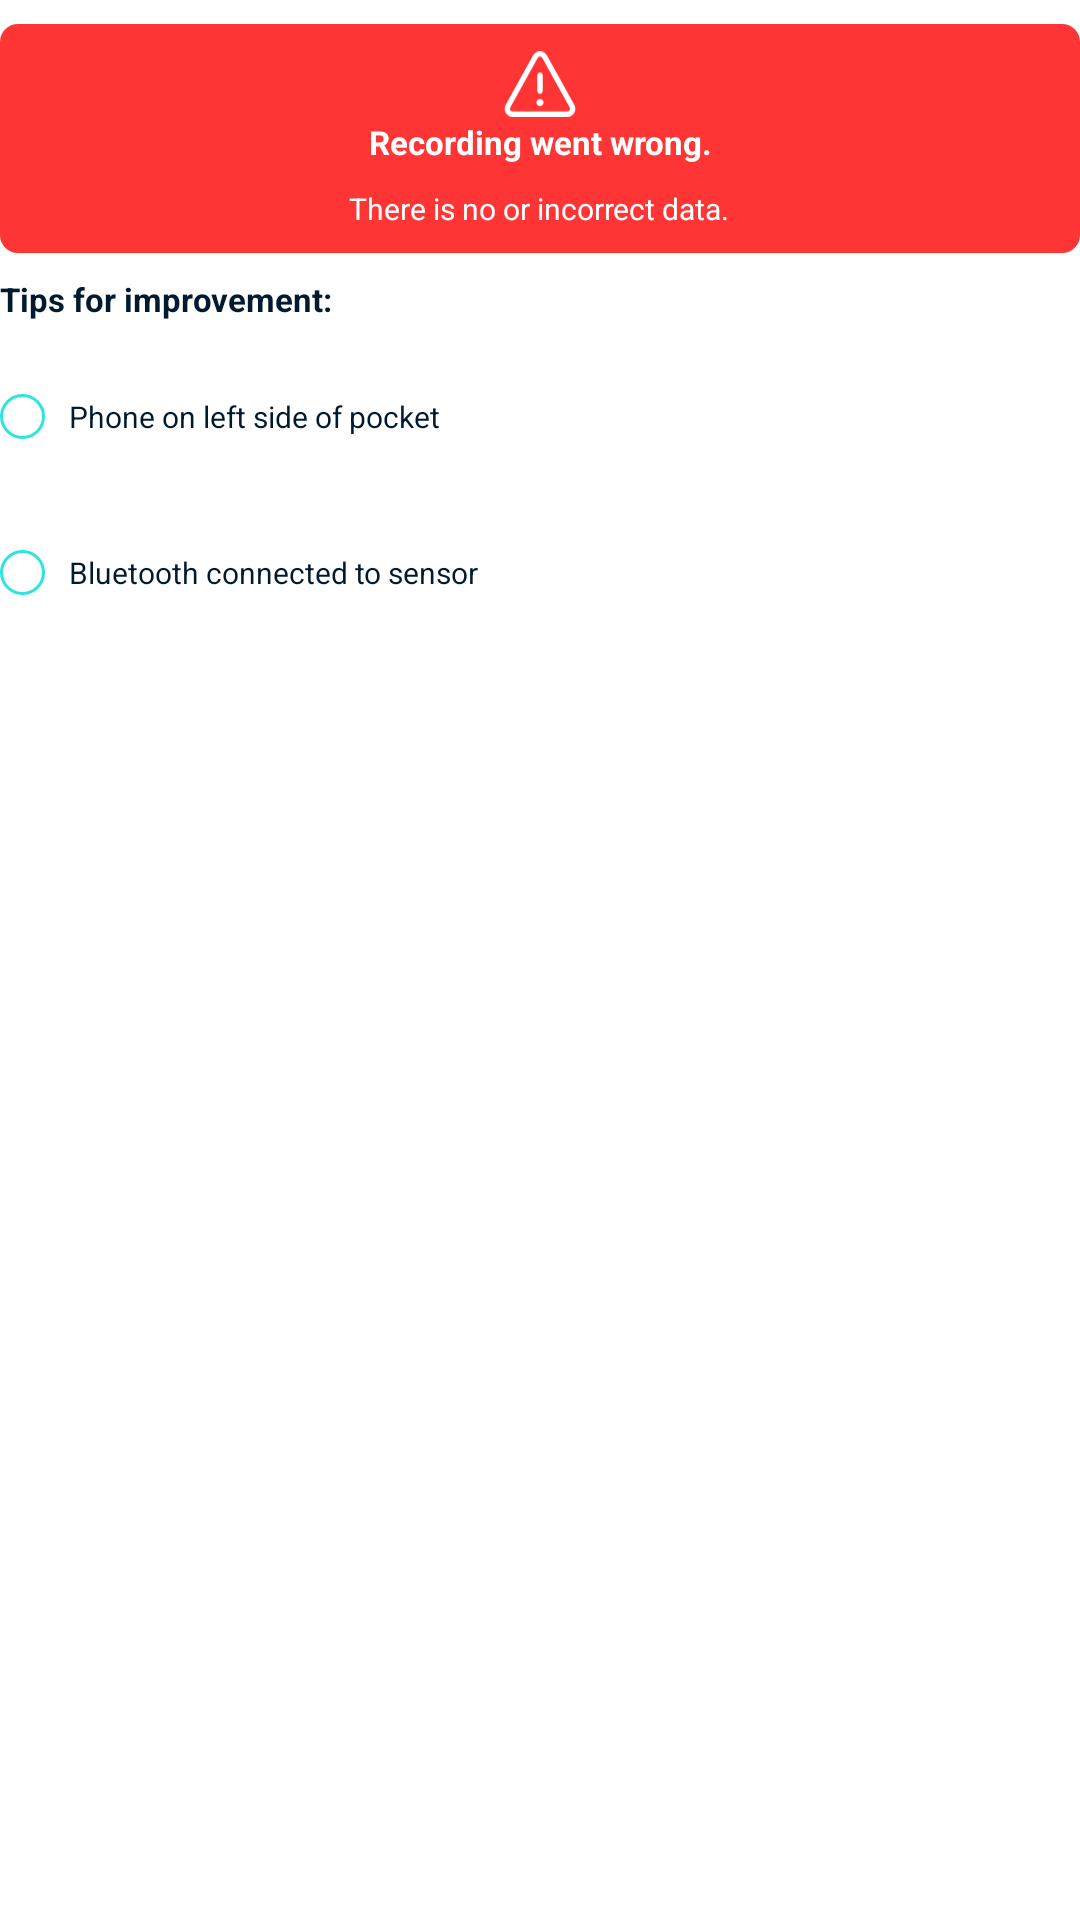

Named icons in this screenshot (1080 x 1920) and their centers, point (x, y):
alert icon: point (540, 84)
